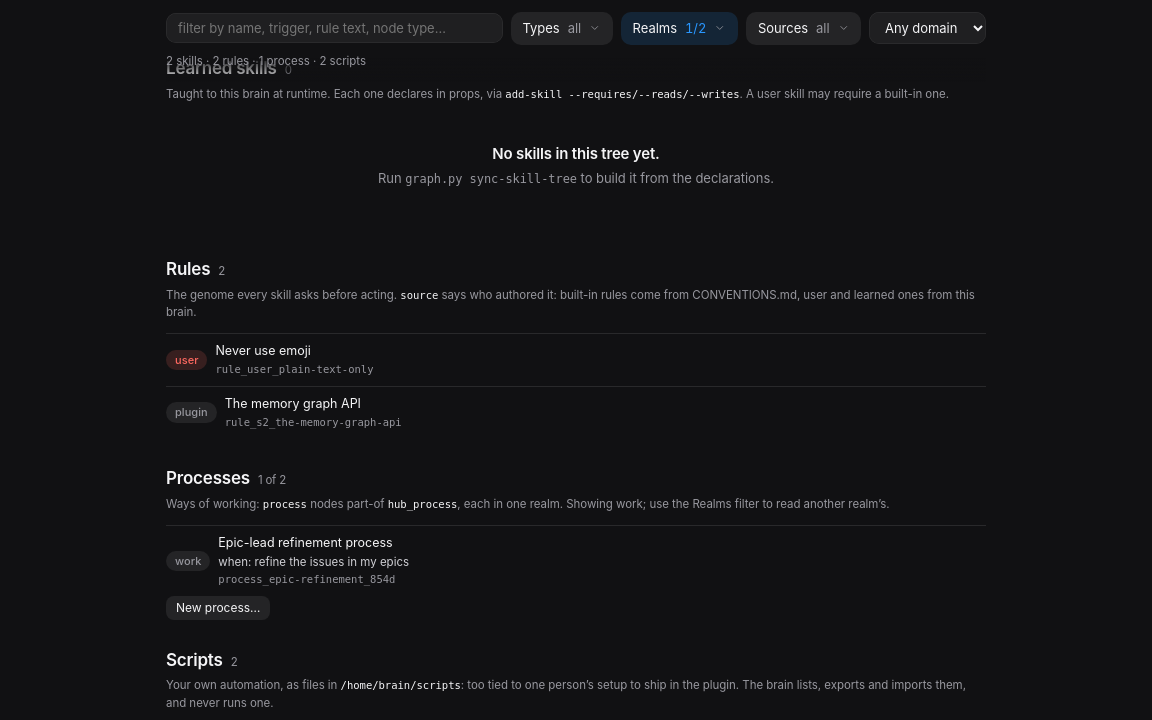
Scenario: Capabilities › reads a rule in full, from the catalogue
(page scrolled)
Click the button "user Never use emoji rule_user_plain-text-only".
click(187, 360)  # box [166,334,986,386]
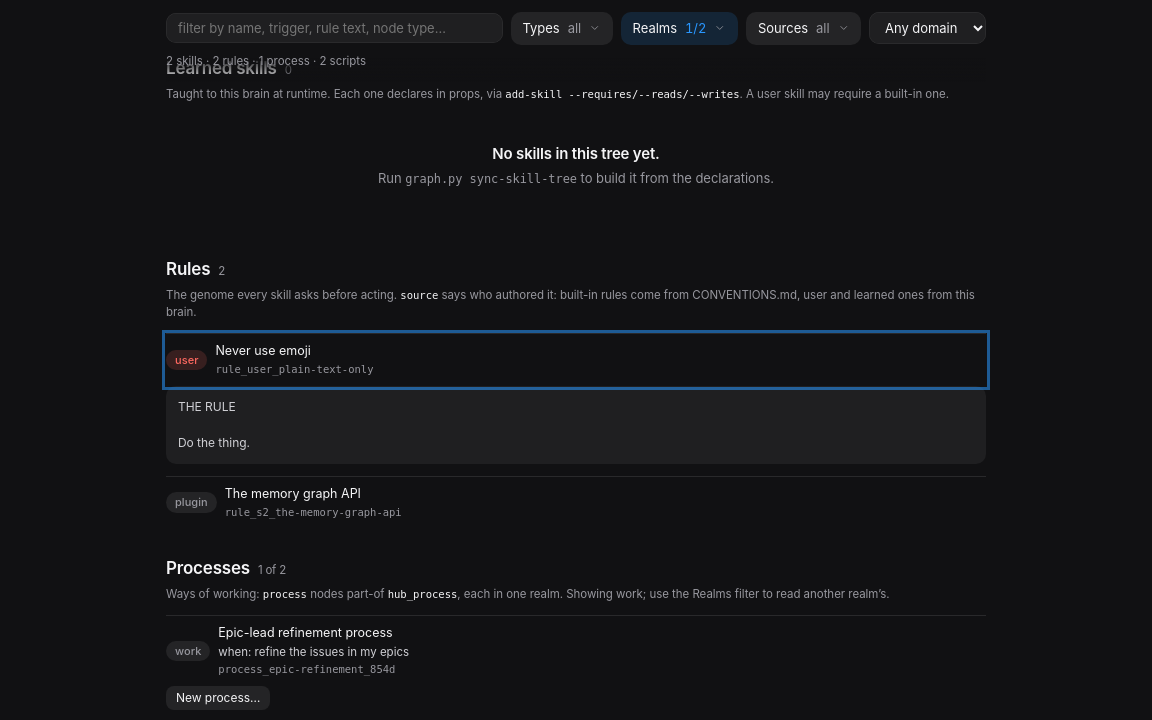
Check: the text "THE RULE Do the thing." is shown, box [166,386,986,464]
